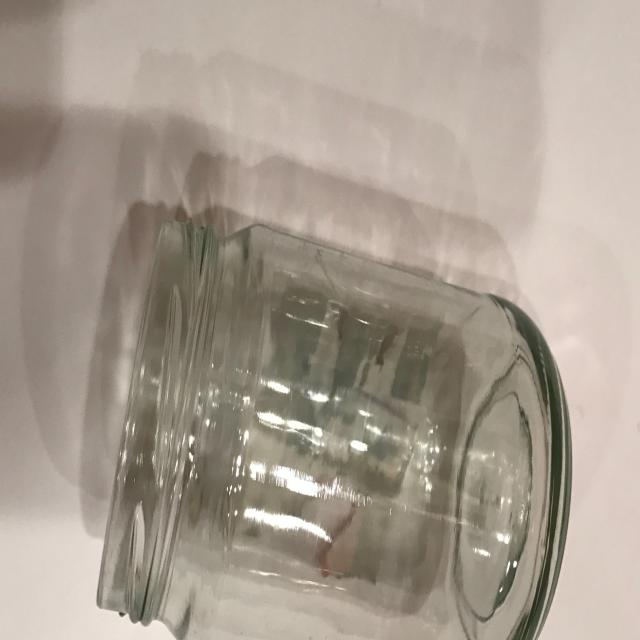glass: (95, 218, 572, 639)
